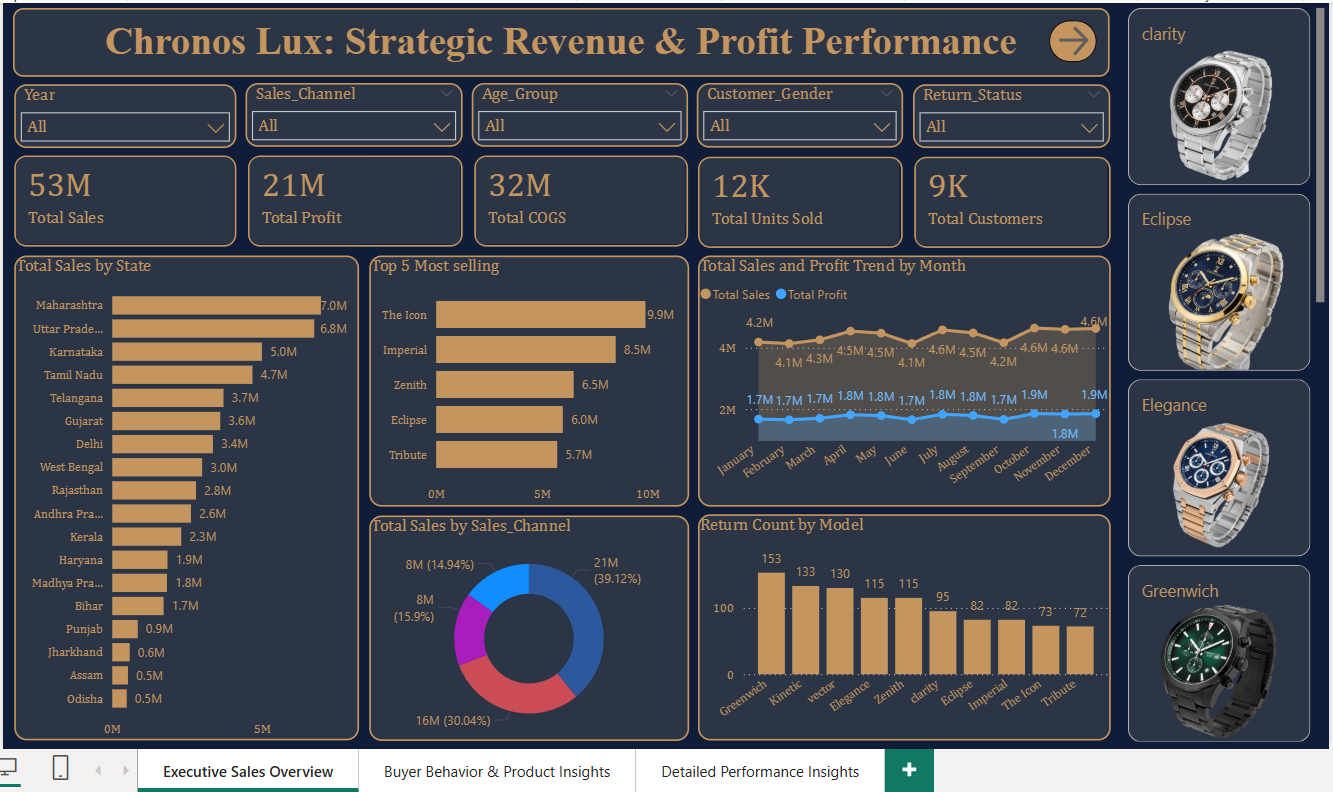

The dashboard page shown, as its layout file describes it:
{"tool":"powerbi","page":{"name":"Executive Sales Overview","canvas":[1280,720],"ordinal":0},"visuals":[{"type":"textbox","box":[9.7,4.8,1058,66.4],"z":0},{"type":"advancedSlicerVisual","fields":{"Values":["Sheet1.Model_Name"]},"box":[1080.9,0,199.1,720],"z":1000},{"type":"cardVisual","fields":{"Data":["Watch sales.Total Sales"]},"box":[10.9,147.2,214.7,88.1],"z":2000},{"type":"cardVisual","fields":{"Data":["Watch sales.Total Profit"]},"box":[236.5,147.2,207.5,88.1],"z":3000},{"type":"cardVisual","fields":{"Data":["Watch sales.Total COGS"]},"box":[454.8,147.2,206.3,88.1],"z":4000},{"type":"cardVisual","fields":{"Data":["Watch sales.Total Units Sold"]},"box":[670.8,148.4,197.9,88.1],"z":5000},{"type":"cardVisual","fields":{"Data":["Watch sales.Total Customers"]},"box":[879.5,148.4,189.4,88.1],"z":6000},{"type":"slicer","fields":{"Values":["Watch sales.Order_Date.Variation.Date Hierarchy.Year"]},"box":[10.9,78.7,214.7,61.5],"z":7000},{"type":"slicer","fields":{"Values":["Watch sales.Customer_Age_Group"]},"box":[452.4,77.5,208.7,61.5],"z":8000},{"type":"slicer","fields":{"Values":["Watch sales.Customer_Gender"]},"box":[669.6,77.5,199.1,62.7],"z":9000},{"type":"slicer","fields":{"Values":["Watch sales.Return_Status"]},"box":[878.3,78.7,190.6,61.5],"z":10000},{"type":"slicer","fields":{"Values":["Watch sales.Sales_Channel"]},"box":[234,77.5,209.9,61.5],"z":11000},{"type":"barChart","fields":{"Category":["Watch sales.State"],"Y":["Watch sales.Total Sales"]},"box":[10.9,243.7,333,468.1],"z":12000},{"type":"donutChart","fields":{"Category":["Watch sales.Sales_Channel"],"Y":["Watch sales.Total Sales"]},"box":[353.2,494.2,309,217.9],"z":13000},{"type":"clusteredBarChart","title":"Top 5 Most selling","fields":{"Category":["Watch sales.Model_Name"],"Y":["Watch sales.Total Sales"]},"box":[353.2,243.5,309,242.1],"z":14000},{"type":"lineChart","title":"Total Sales and Profit Trend by Month","fields":{"Category":["Watch sales.Order_Date.Variation.Date Hierarchy.Month"],"Y":["Watch sales.Total Sales","Watch sales.Total Profit"]},"box":[670.8,243.7,398.1,242.5],"z":15000},{"type":"columnChart","title":"Return Count by Model","fields":{"Y":["Watch sales.Return Count"],"Category":["Watch sales.Model_Name"]},"box":[671,494,398,218],"z":16000},{"type":"actionButton","box":[1009.8,16.9,45.8,39.8],"z":17000}]}

Visuals, with their boxes on the page's 1280x720 design canvas (x1, y1, x2, y2). These are canvas units, not pixel positions in the 1333x792 screenshot, which may show the page scaled, cropped or inside an application window:
textbox: detection(10, 5, 1068, 71)
advancedSlicerVisual - Sheet1.Model_Name: detection(1081, 0, 1280, 720)
cardVisual - Watch sales.Total Sales: detection(11, 147, 226, 235)
cardVisual - Watch sales.Total Profit: detection(236, 147, 444, 235)
cardVisual - Watch sales.Total COGS: detection(455, 147, 661, 235)
cardVisual - Watch sales.Total Units Sold: detection(671, 148, 869, 236)
cardVisual - Watch sales.Total Customers: detection(880, 148, 1069, 236)
slicer - Watch sales.Order_Date.Variation.Date Hierarchy.Year: detection(11, 79, 226, 140)
slicer - Watch sales.Customer_Age_Group: detection(452, 78, 661, 139)
slicer - Watch sales.Customer_Gender: detection(670, 78, 869, 140)
slicer - Watch sales.Return_Status: detection(878, 79, 1069, 140)
slicer - Watch sales.Sales_Channel: detection(234, 78, 444, 139)
barChart - Watch sales.State x Watch sales.Total Sales: detection(11, 244, 344, 712)
donutChart - Watch sales.Sales_Channel x Watch sales.Total Sales: detection(353, 494, 662, 712)
"Top 5 Most selling" clusteredBarChart: detection(353, 244, 662, 486)
"Total Sales and Profit Trend by Month" lineChart: detection(671, 244, 1069, 486)
"Return Count by Model" columnChart: detection(671, 494, 1069, 712)
actionButton: detection(1010, 17, 1056, 57)
